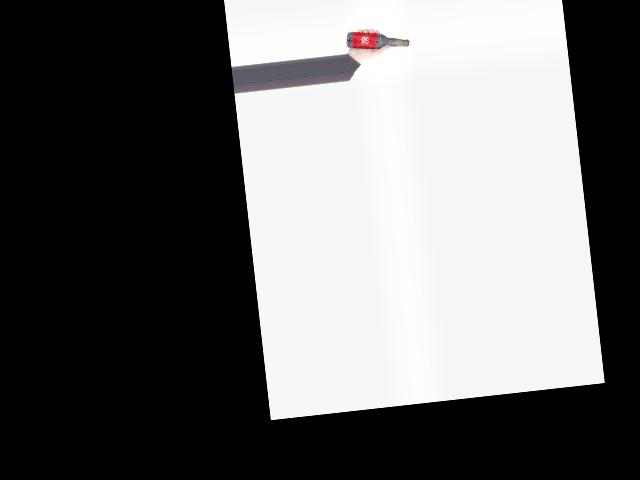beer: (345, 24, 411, 53)
